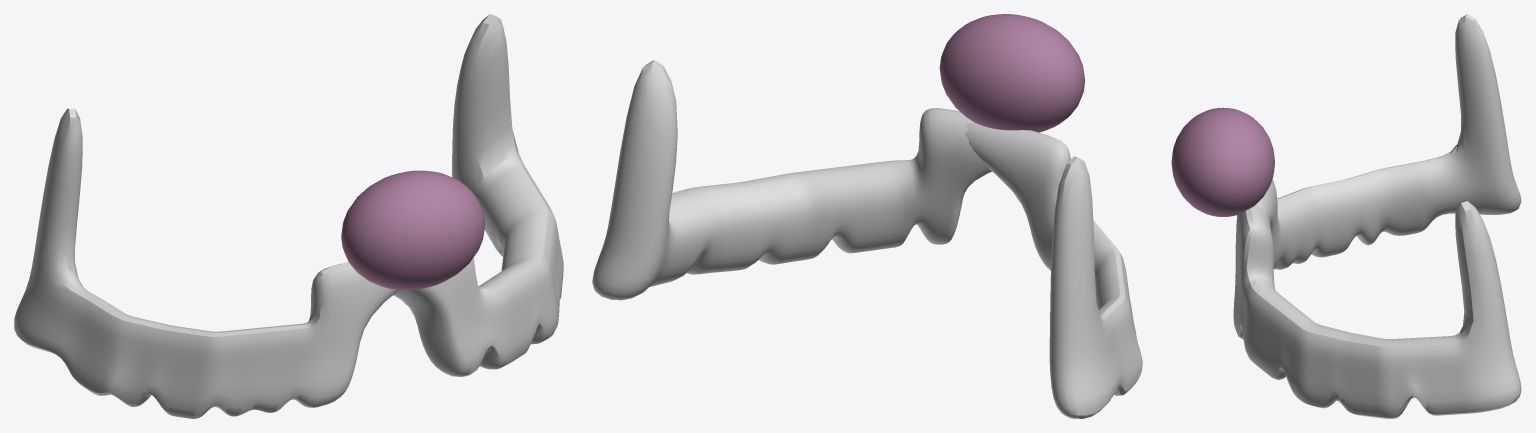
Rendered from Seymour Schwenk.fbx.
The picture shows the model from 3 angles, left to right: view 1: azimuth 30°, elevation 25°; view 2: azimuth 150°, elevation 25°; view 3: azimuth 270°, elevation 25°; orthographic projection. The views are drawn at different scales.
Parts seen in each view (by area): view 1: Sphere.003, Sphere.001; view 2: Sphere.003, Sphere.001; view 3: Sphere.003, Sphere.001.
Part boxes in pixels (x1=…): Sphere.003: x1=14, y1=14, x2=563, y2=418; Sphere.001: x1=341, y1=170, x2=485, y2=290; Sphere.003: x1=592, y1=60, x2=1142, y2=418; Sphere.001: x1=939, y1=14, x2=1085, y2=132; Sphere.003: x1=1233, y1=14, x2=1521, y2=418; Sphere.001: x1=1171, y1=107, x2=1274, y2=216.
Size of the model in its own units: 69.12 by 34.07 by 47.72.
